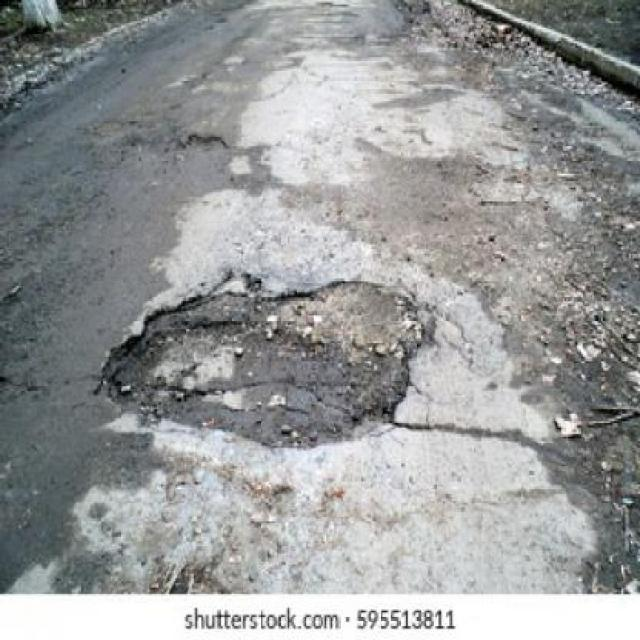Pothole: (105, 278, 425, 444)
